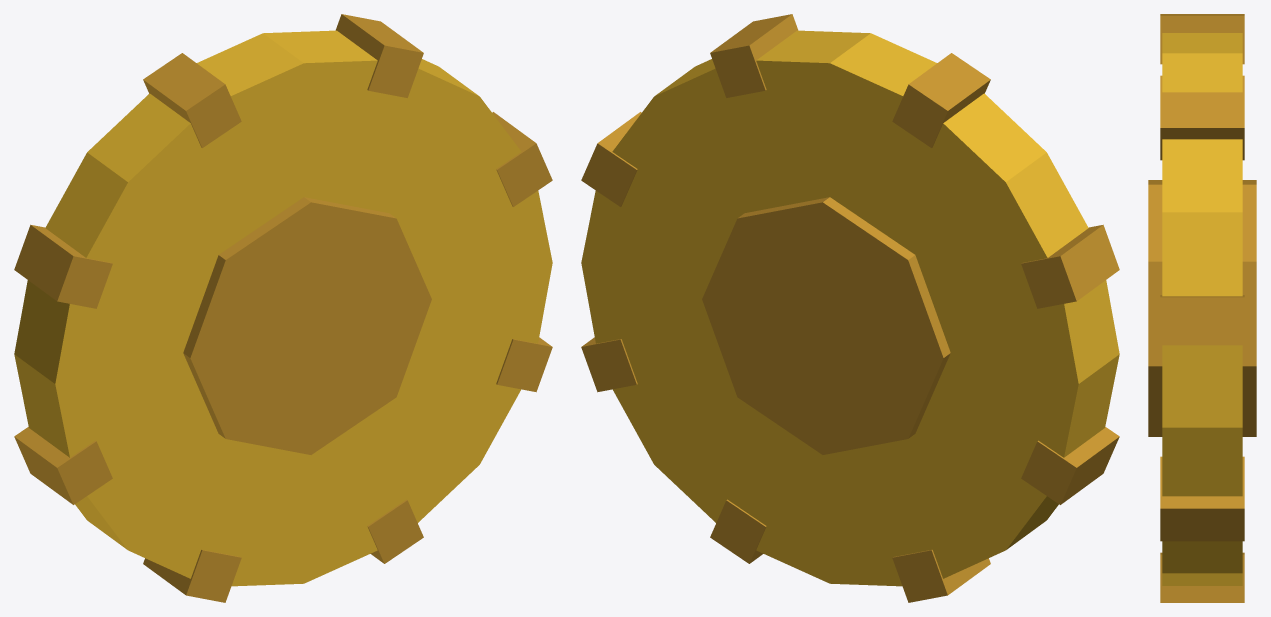
File: coin.glb
The picture shows the model from 3 angles, left to right: view 1: azimuth 30°, elevation 25°; view 2: azimuth 150°, elevation 25°; view 3: azimuth 270°, elevation 25°; orthographic projection.
Visible parts, largest first — view 1: coin_disc, coin_emblem, coin; view 2: coin_disc, coin_emblem, coin; view 3: coin_disc, coin, coin_emblem.
Boxes of the visible parts, <box> form: coin_disc: <box>14,30,552,586</box>; coin_emblem: <box>183,197,431,454</box>; coin: <box>14,14,552,602</box>; coin_disc: <box>581,30,1119,586</box>; coin_emblem: <box>702,197,950,454</box>; coin: <box>581,14,1119,602</box>; coin_disc: <box>1162,33,1242,585</box>; coin: <box>1160,14,1244,602</box>; coin_emblem: <box>1148,180,1256,436</box>.
Bounding box in the file's own units: 0.42 × 0.42 × 0.081.
